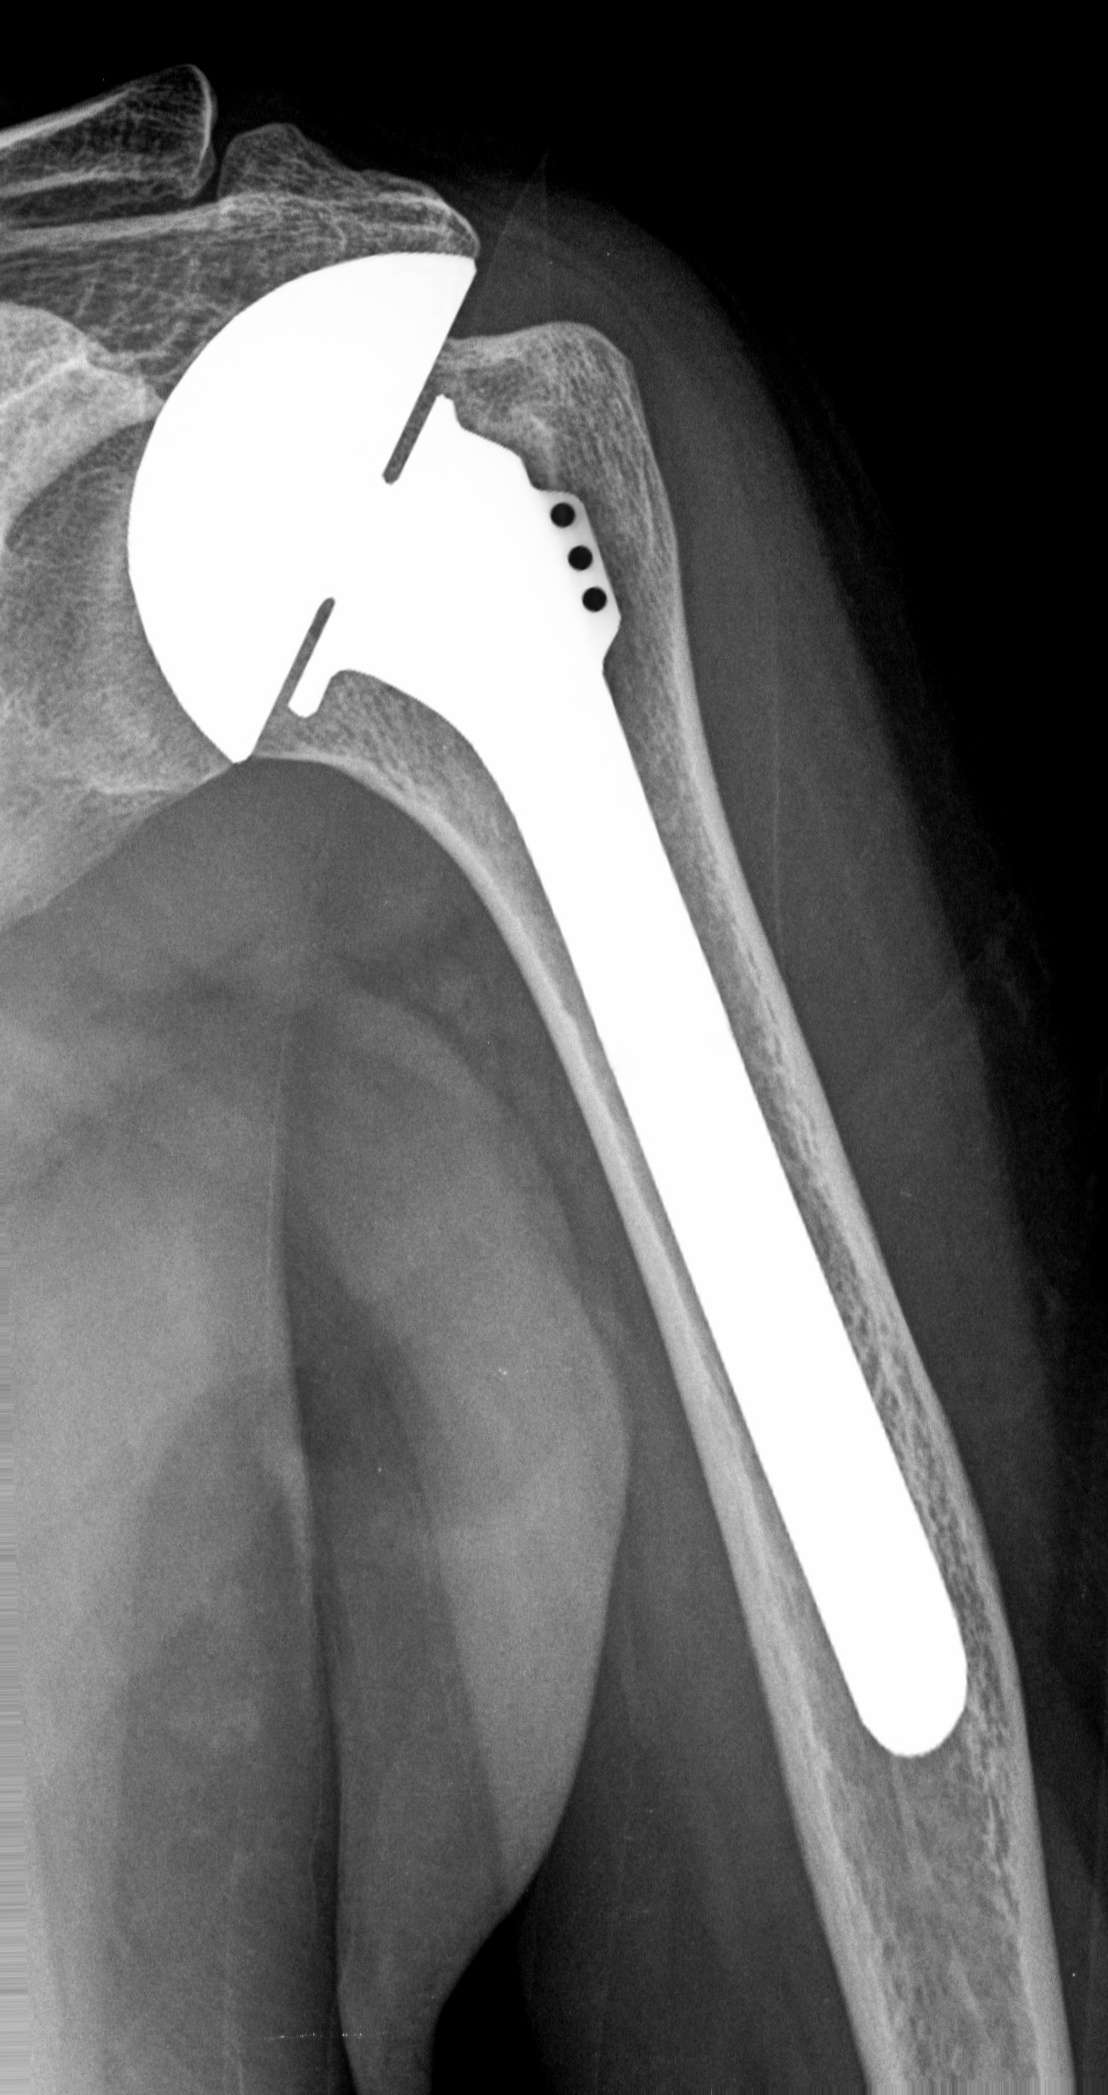Shoulder-Olympia-Wright: (107, 234, 983, 1794)
